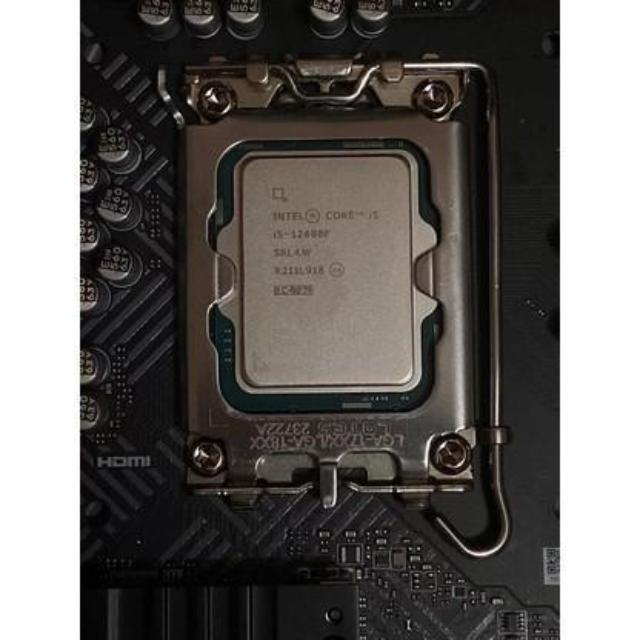CPU: (228, 147, 428, 393)
